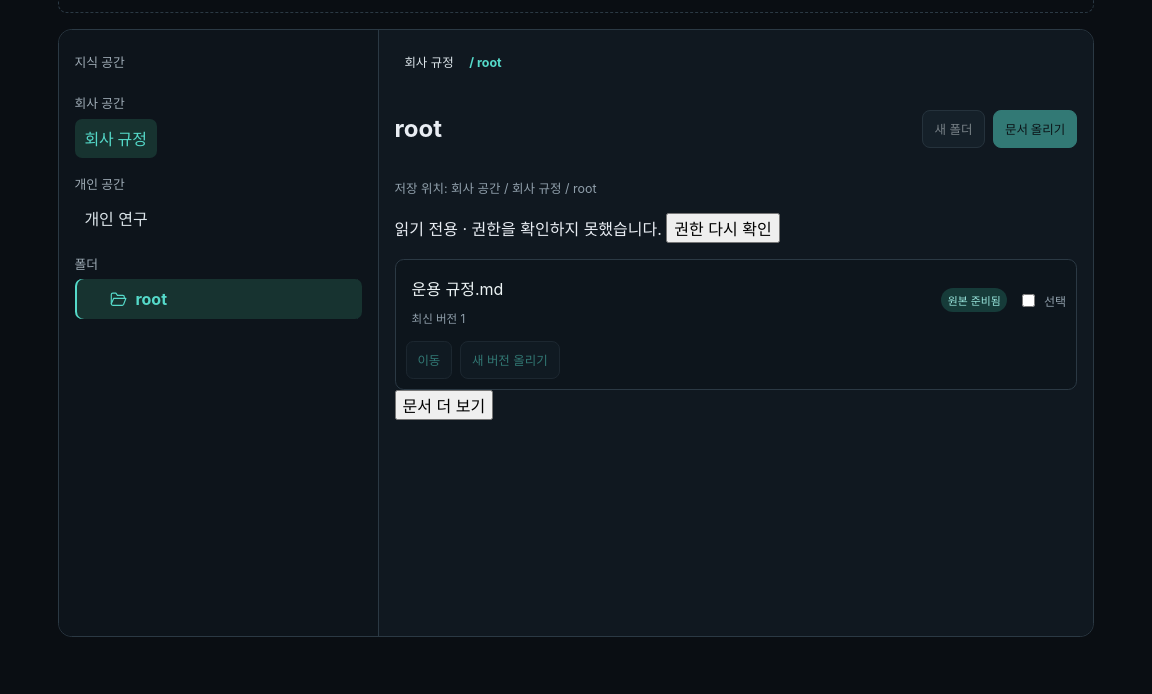
Test case: keeps the authorization invalidation explanation visible after a later successful workspace load
This screenshot has width=1152, height=694.
(page scrolled)
Click the button "문서 더 보기": (444, 405) left=395, top=390, right=493, bottom=420
(page scrolled)
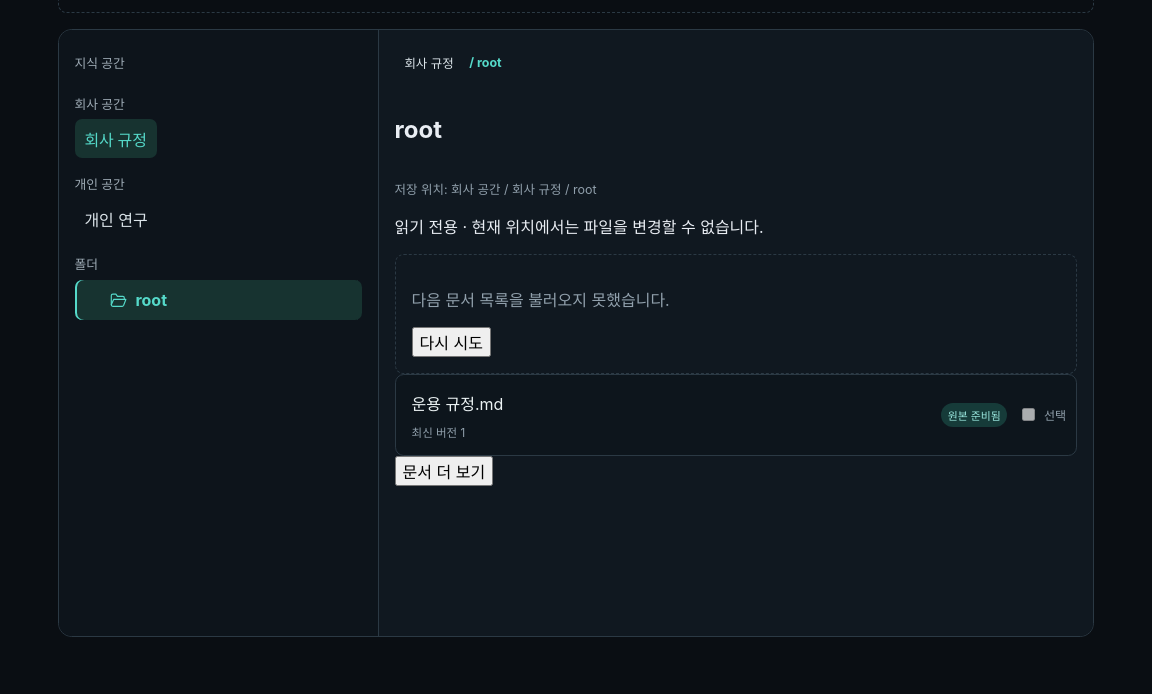
Click the button "개인 연구": (116, 219) left=75, top=200, right=158, bottom=238
(page scrolled)
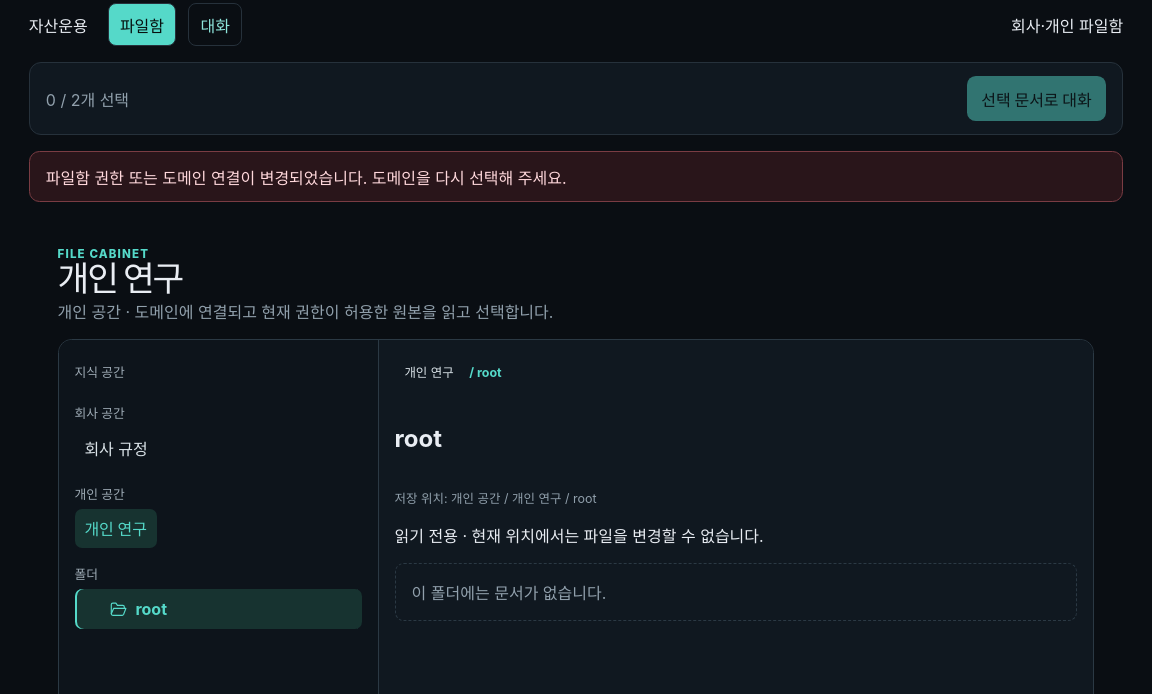
Check: the text "파일함 권한 또는 도메인 연결이 변경되었습니다. 도메인을 다시 선택해 주세요." is shown, box left=29, top=151, right=1123, bottom=202
Check: the heading "개인 연구" is shown, box left=58, top=260, right=182, bottom=298
